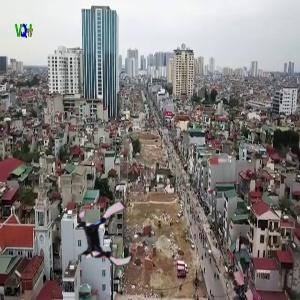drone: (71, 203, 143, 275)
